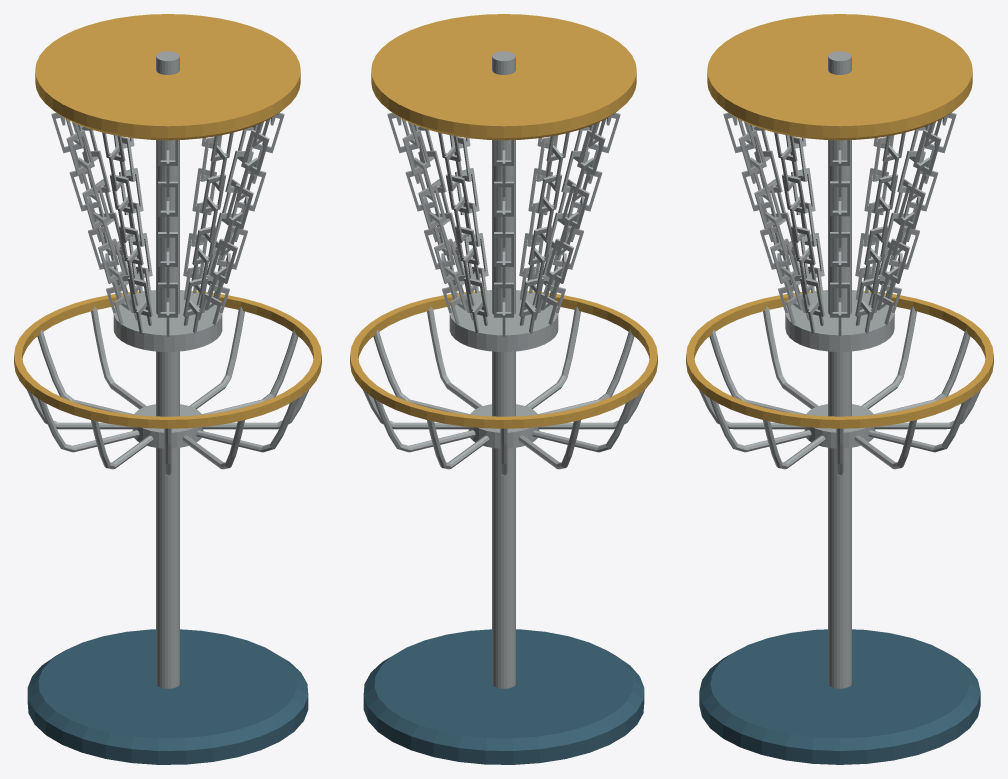
3 views of the same model, side by side, from view 1: azimuth 30°, elevation 25°; view 2: azimuth 150°, elevation 25°; view 3: azimuth 270°, elevation 25° (orthographic).
Visible parts, largest first — view 1: WholeGroundFootPedestal, WholeUpperSuspensionDisc, WholeCentralMast, WholeOpenBasketUpperRim, WholeLowerChainCollar, WholeBasketFloorHub, WholeRadialFloorAndSideBasketWire_06, WholeRadialFloorAndSideBasketWire_10, WholeRadialFloorAndSideBasketWire_01, WholeRadialFloorAndSideBasketWire_03, WholeRadialFloorAndSideBasketWire_00, WholeRadialFloorAndSideBasketWire_04 (+4 smaller); view 2: WholeGroundFootPedestal, WholeUpperSuspensionDisc, WholeCentralMast, WholeOpenBasketUpperRim, WholeLowerChainCollar, WholeBasketFloorHub, WholeRadialFloorAndSideBasketWire_02, WholeRadialFloorAndSideBasketWire_06, WholeRadialFloorAndSideBasketWire_09, WholeRadialFloorAndSideBasketWire_11, WholeRadialFloorAndSideBasketWire_00, WholeRadialFloorAndSideBasketWire_08 (+4 smaller); view 3: WholeGroundFootPedestal, WholeUpperSuspensionDisc, WholeCentralMast, WholeOpenBasketUpperRim, WholeLowerChainCollar, WholeBasketFloorHub, WholeRadialFloorAndSideBasketWire_02, WholeRadialFloorAndSideBasketWire_10, WholeRadialFloorAndSideBasketWire_05, WholeRadialFloorAndSideBasketWire_07, WholeRadialFloorAndSideBasketWire_04, WholeRadialFloorAndSideBasketWire_08 (+4 smaller).
Boxes of the visible parts, left/top/right/bottom form: WholeGroundFootPedestal: left=27, top=629, right=308, bottom=764; WholeUpperSuspensionDisc: left=35, top=14, right=300, bottom=140; WholeCentralMast: left=156, top=51, right=179, bottom=688; WholeOpenBasketUpperRim: left=14, top=290, right=321, bottom=428; WholeLowerChainCollar: left=113, top=290, right=222, bottom=351; WholeBasketFloorHub: left=132, top=404, right=203, bottom=448; WholeRadialFloorAndSideBasketWire_06: left=37, top=398, right=139, bottom=452; WholeRadialFloorAndSideBasketWire_10: left=196, top=398, right=298, bottom=452; WholeRadialFloorAndSideBasketWire_01: left=189, top=306, right=244, bottom=409; WholeRadialFloorAndSideBasketWire_03: left=91, top=306, right=146, bottom=409; WholeRadialFloorAndSideBasketWire_00: left=202, top=329, right=298, bottom=414; WholeRadialFloorAndSideBasketWire_04: left=37, top=329, right=133, bottom=414; WholeGroundFootPedestal: left=363, top=629, right=644, bottom=764; WholeUpperSuspensionDisc: left=371, top=14, right=636, bottom=140; WholeCentralMast: left=492, top=51, right=515, bottom=688; WholeOpenBasketUpperRim: left=350, top=290, right=657, bottom=428; WholeLowerChainCollar: left=449, top=290, right=558, bottom=351; WholeBasketFloorHub: left=468, top=404, right=539, bottom=448; WholeRadialFloorAndSideBasketWire_02: left=373, top=398, right=475, bottom=452; WholeRadialFloorAndSideBasketWire_06: left=532, top=398, right=634, bottom=452; WholeRadialFloorAndSideBasketWire_09: left=525, top=306, right=580, bottom=409; WholeRadialFloorAndSideBasketWire_11: left=427, top=306, right=482, bottom=409; WholeRadialFloorAndSideBasketWire_00: left=373, top=329, right=469, bottom=414; WholeRadialFloorAndSideBasketWire_08: left=538, top=329, right=634, bottom=414; WholeGroundFootPedestal: left=699, top=629, right=980, bottom=764; WholeUpperSuspensionDisc: left=707, top=14, right=972, bottom=140; WholeCentralMast: left=828, top=51, right=851, bottom=688; WholeOpenBasketUpperRim: left=686, top=290, right=993, bottom=428; WholeLowerChainCollar: left=785, top=290, right=894, bottom=351; WholeBasketFloorHub: left=804, top=404, right=875, bottom=448; WholeRadialFloorAndSideBasketWire_02: left=868, top=398, right=970, bottom=452; WholeRadialFloorAndSideBasketWire_10: left=709, top=398, right=811, bottom=452; WholeRadialFloorAndSideBasketWire_05: left=861, top=306, right=916, bottom=409; WholeRadialFloorAndSideBasketWire_07: left=763, top=306, right=818, bottom=409; WholeRadialFloorAndSideBasketWire_04: left=874, top=329, right=970, bottom=414; WholeRadialFloorAndSideBasketWire_08: left=709, top=329, right=805, bottom=414.
Size of the model in its own units: 0.7 by 1.63 by 0.7.
